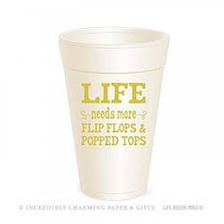paper_cup: (51, 18, 176, 209)
